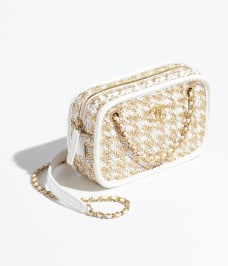channel: (63, 70, 216, 185), (137, 98, 179, 126), (110, 110, 134, 157), (141, 128, 176, 158)
